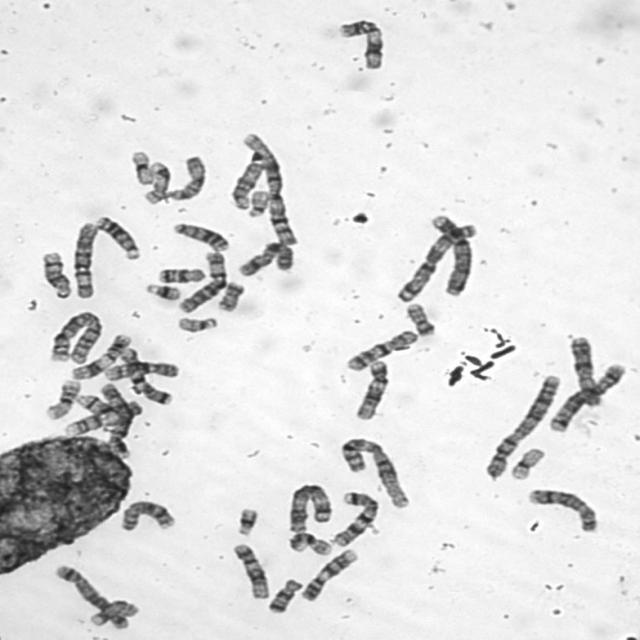A1: (238, 129, 298, 250), (336, 432, 411, 510)
A2: (481, 372, 564, 480), (46, 308, 104, 364)
A3: (392, 217, 478, 304), (284, 481, 334, 534)
B4: (426, 213, 476, 298), (101, 381, 143, 460)
B5: (547, 362, 628, 432), (52, 562, 132, 632)
C10: (341, 327, 419, 373), (102, 362, 181, 382)
C11: (67, 331, 133, 381), (335, 16, 386, 71)
C12: (352, 357, 391, 421), (230, 540, 270, 600)
C6: (175, 248, 230, 314), (70, 218, 100, 300)
C7: (121, 345, 176, 406), (328, 489, 380, 548)
C8: (524, 486, 600, 534), (117, 497, 177, 534)
C9: (298, 547, 360, 602), (67, 401, 148, 439)
D13: (92, 212, 142, 261), (168, 220, 230, 252)
D14: (38, 249, 74, 299), (74, 391, 118, 417)
D15: (164, 152, 208, 202), (229, 161, 264, 210)
E16: (42, 378, 82, 420), (286, 530, 334, 557)
E17: (88, 596, 143, 626), (142, 159, 172, 205)
E18: (264, 576, 304, 615), (155, 266, 206, 284)
F19: (507, 444, 546, 480), (127, 148, 156, 186)
F20: (404, 300, 438, 337), (215, 279, 247, 312)
G21: (233, 504, 261, 536), (143, 281, 183, 302)
G22: (175, 314, 220, 334), (244, 188, 272, 219)
X: (566, 332, 604, 408), (234, 239, 296, 278)
